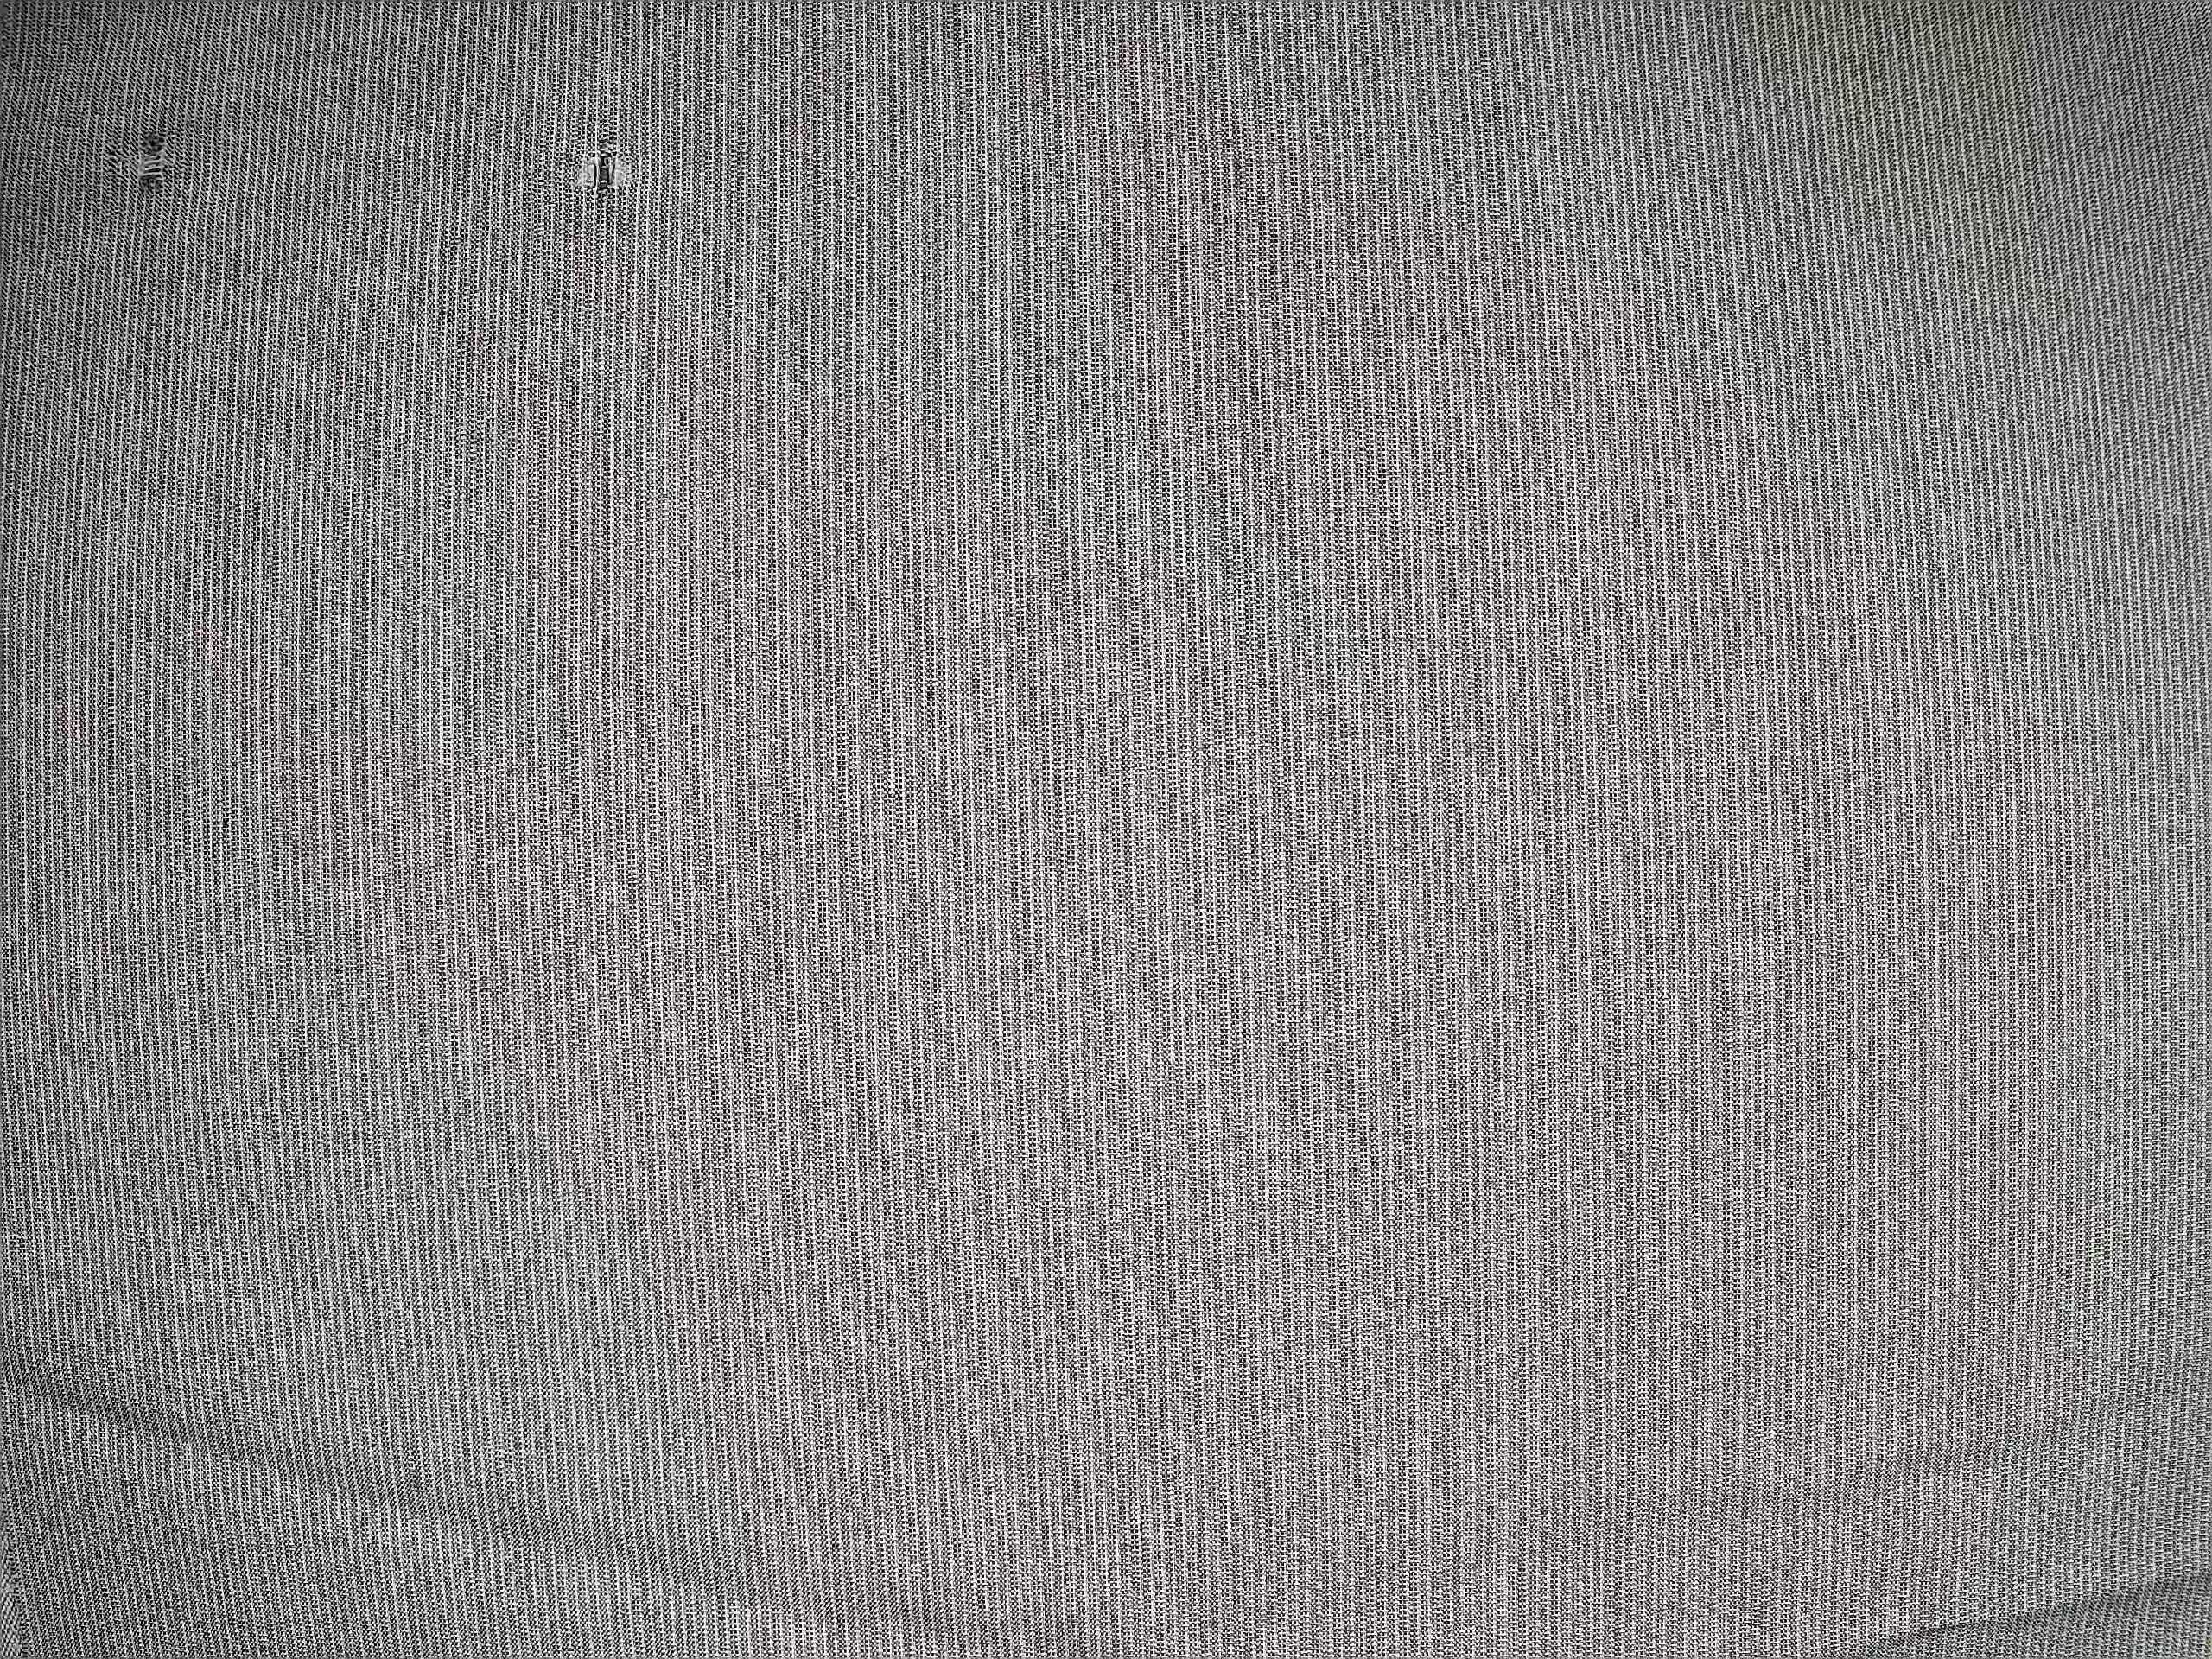rubbing-hole: (92, 103, 200, 216), (564, 120, 646, 228)
